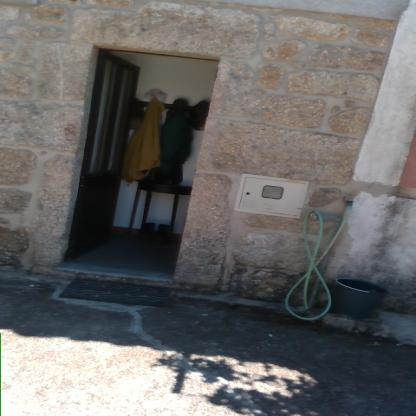open: (75, 38, 218, 284)
